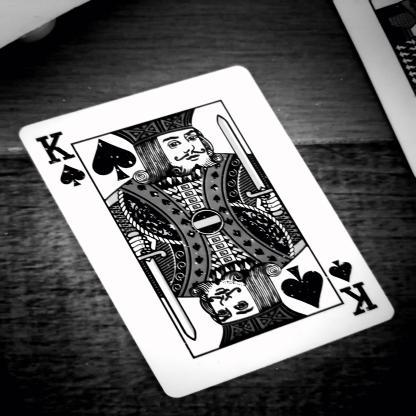KS: (316, 254, 388, 324), (34, 128, 86, 198)
